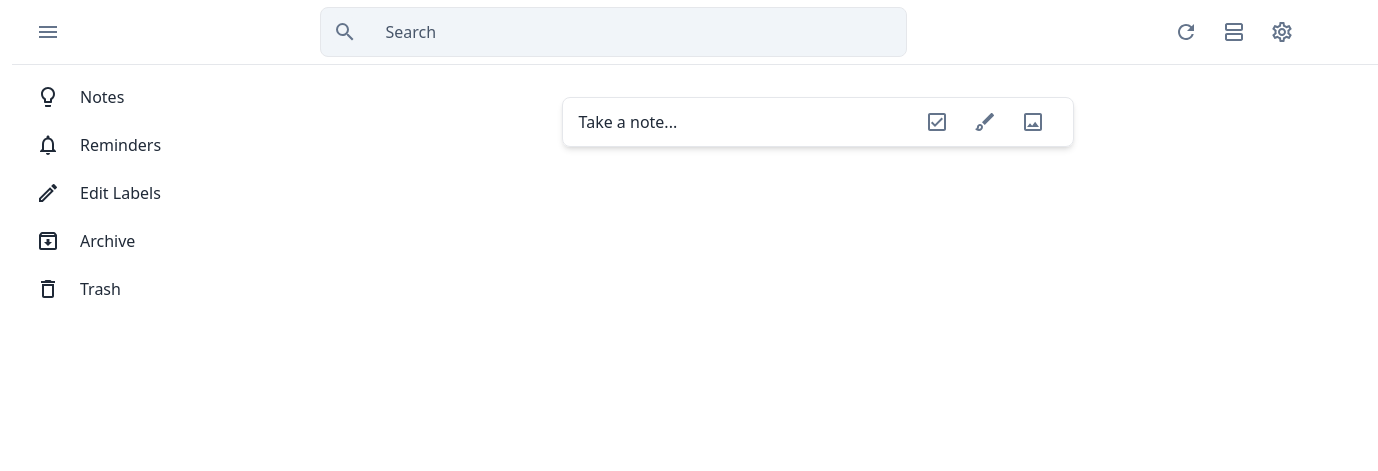
Test: tabs go to their respective pages › clicking the reminders tab opens the reminders page
The image size is (1378, 471).
Click the button "Reminders": click(135, 145) [12,121,257,169]
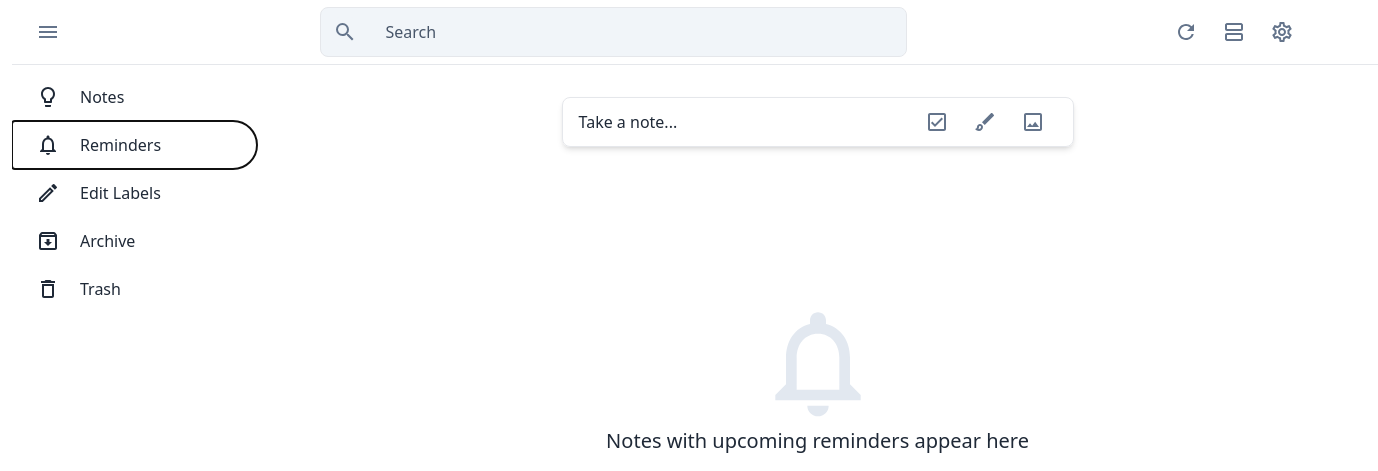
Result: the heading "Notes with upcoming reminders appear here" is shown at [606,427,1029,455]
